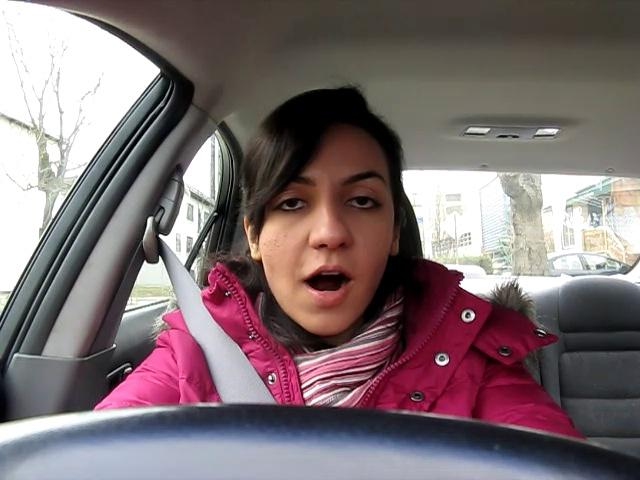close_eyeL: (261, 189, 321, 224)
close_eyeR: (333, 182, 399, 216)
yawn: (282, 259, 369, 306)
